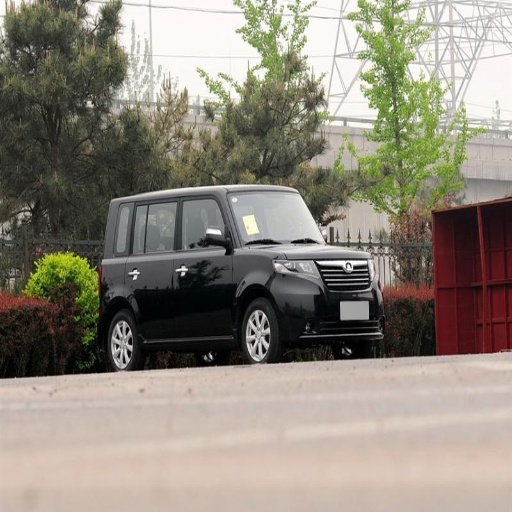front_bumper: (283, 250, 383, 332)
front_right_door: (174, 193, 232, 334)
